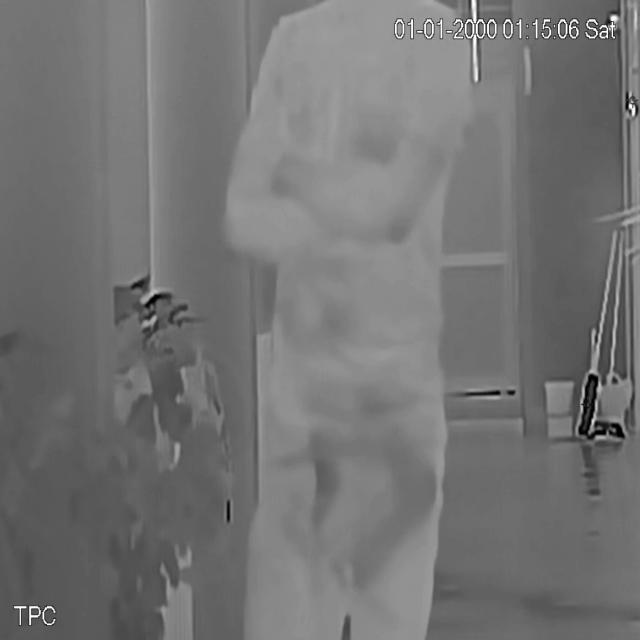Weapon: (354, 436, 439, 588)
